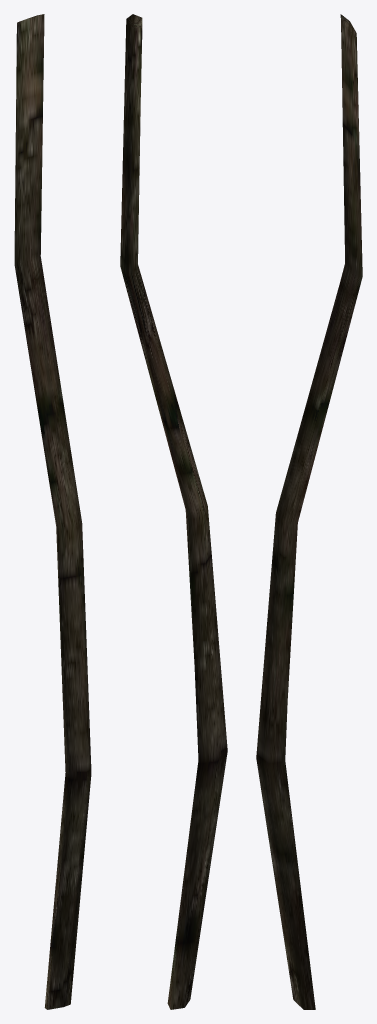
The model's file is KM_STICK.glb.
3 renders of one model, left to right at view 1: azimuth 90°, elevation 25°; view 2: azimuth 150°, elevation 25°; view 3: azimuth 330°, elevation 25°, orthographic.
Visible parts, largest first — view 1: Mesh; view 2: Mesh; view 3: Mesh.
Part boxes in pixels (x1=…): Mesh: x1=14, y1=14, x2=91, y2=1009; Mesh: x1=120, y1=14, x2=227, y2=1009; Mesh: x1=256, y1=14, x2=362, y2=1009.
Bounding box in the file's own units: 0.0668 × 0.7922 × 0.0563.
1 material, 1 textured.
